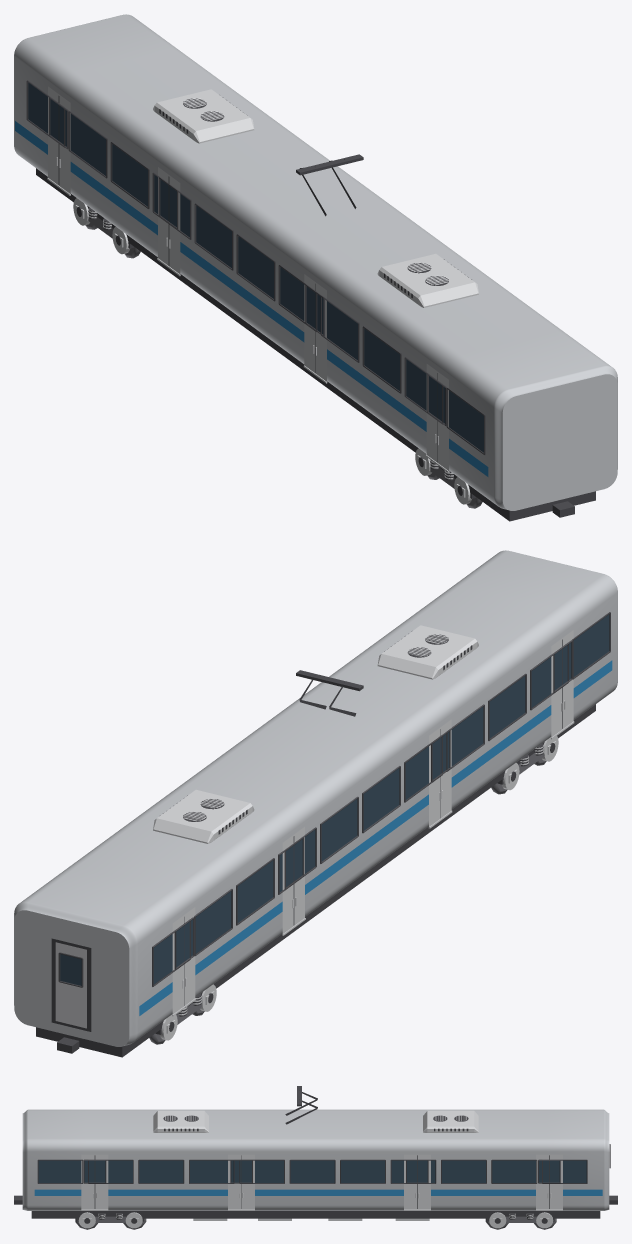
The model's file is 374_close.fbx.
3 views of the same model, one above another, from view 1: azimuth 30°, elevation 25°; view 2: azimuth 150°, elevation 25°; view 3: azimuth 270°, elevation 25° (orthographic). The views are drawn at different scales.
Visible parts, largest first — view 1: 374_close; view 2: 374_close; view 3: 374_close.
Boxes of the visible parts, x1,y1,x2,y2 form: 374_close: (14, 14, 617, 521); 374_close: (14, 550, 617, 1057); 374_close: (14, 1086, 617, 1229).
Size of the model in its own units: 3.01 by 4.67 by 20.6.
